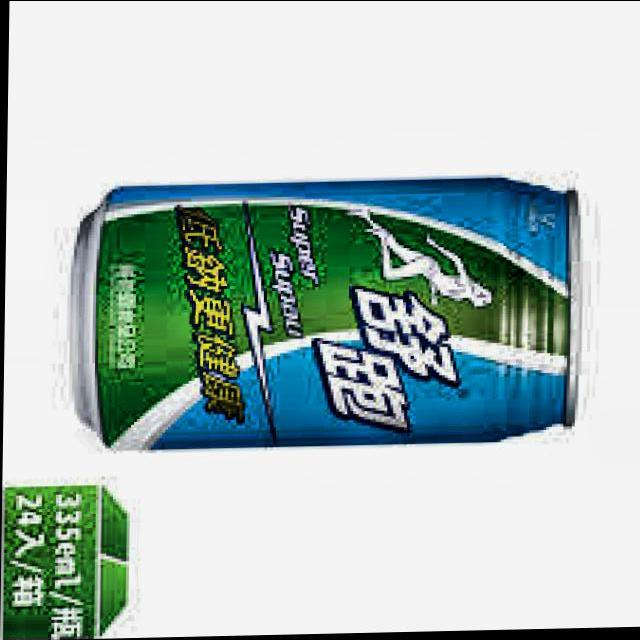litter: (54, 165, 595, 462)
